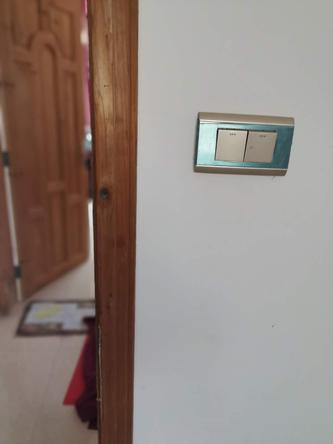switch: (211, 121, 249, 165), (243, 125, 280, 165)
